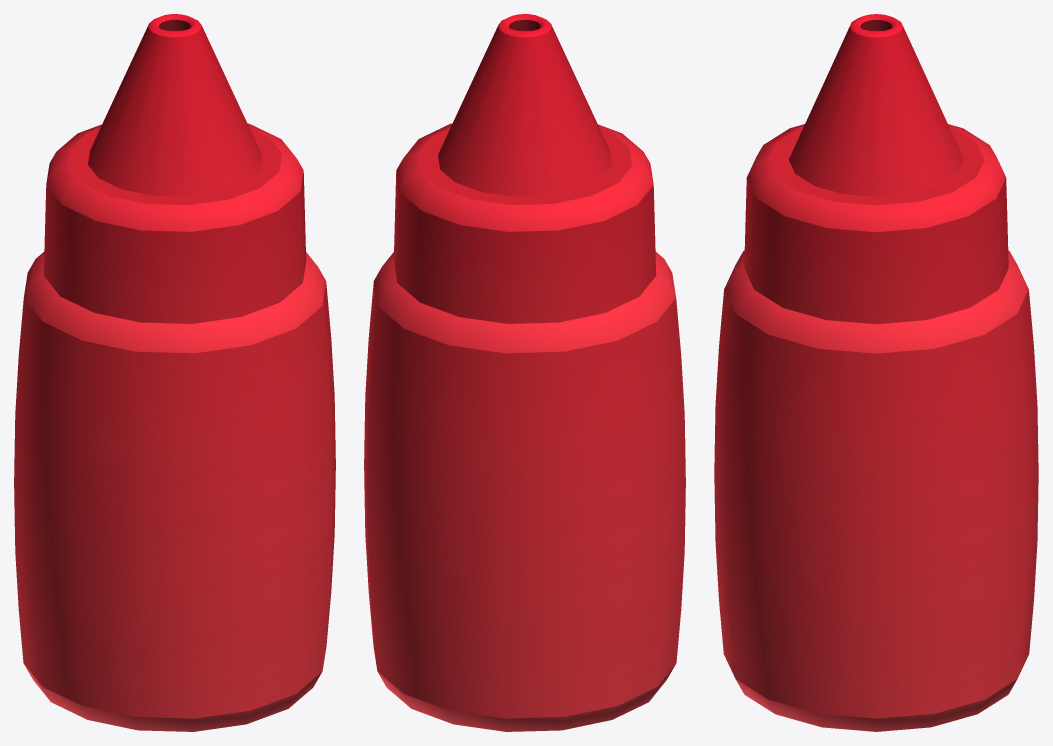
File: Sauce_Ketchup_V1_00.fbx
The picture shows the model from 3 angles, left to right: view 1: azimuth 30°, elevation 25°; view 2: azimuth 150°, elevation 25°; view 3: azimuth 270°, elevation 25°; orthographic projection.
Parts seen in each view (by area): view 1: Sauce_Ketchup_V1_00; view 2: Sauce_Ketchup_V1_00; view 3: Sauce_Ketchup_V1_00.
Part boxes in pixels (<box>): Sauce_Ketchup_V1_00: <box>14,14,335,731</box>; Sauce_Ketchup_V1_00: <box>364,14,685,731</box>; Sauce_Ketchup_V1_00: <box>714,14,1038,731</box>.
Size of the model in its own units: 24.27 by 54.17 by 24.27.
